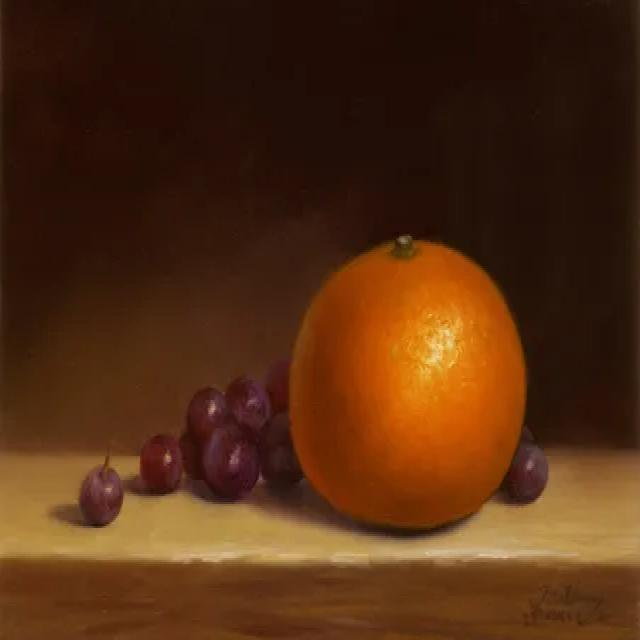orange: (284, 233, 536, 550)
